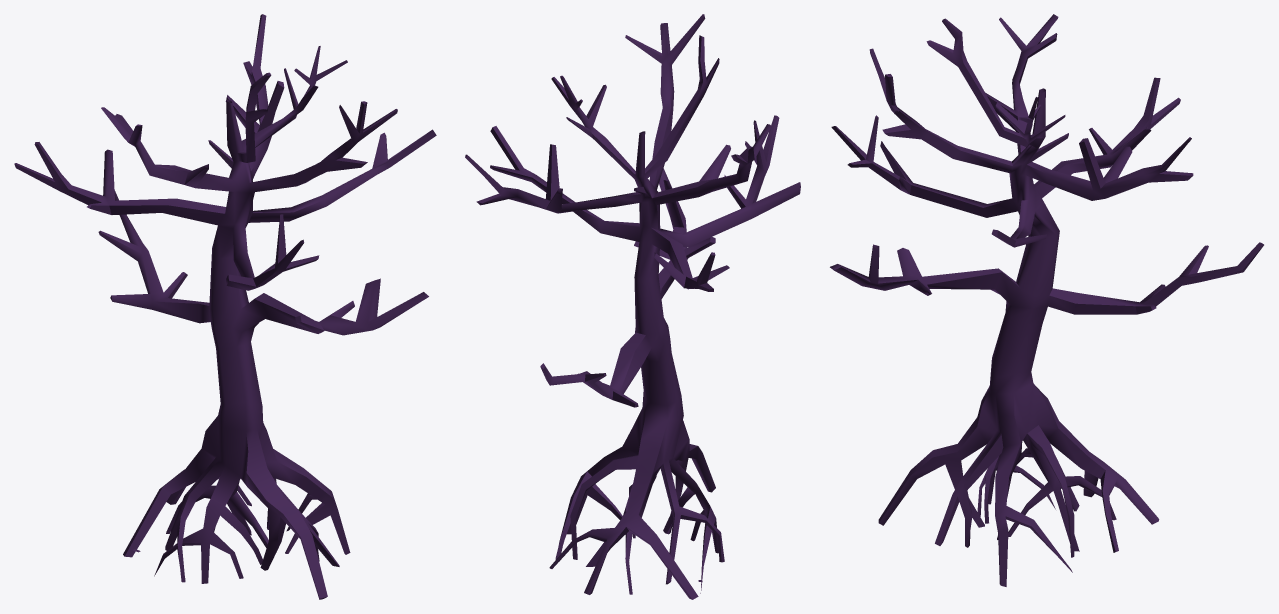
Rendered from mangroveTreeBase.fbx.
The picture shows the model from 3 angles, left to right: view 1: azimuth 30°, elevation 25°; view 2: azimuth 150°, elevation 25°; view 3: azimuth 270°, elevation 25°; orthographic projection. The views are drawn at different scales.
Parts seen in each view (by area): view 1: polySurface6; view 2: polySurface6; view 3: polySurface6.
Boxes of the visible parts, x1,y1,x2,y2 form: polySurface6: [14, 14, 436, 599]; polySurface6: [465, 14, 800, 599]; polySurface6: [830, 14, 1263, 586].
Bounding box in the file's own units: 14.78 × 22.91 × 17.42.
